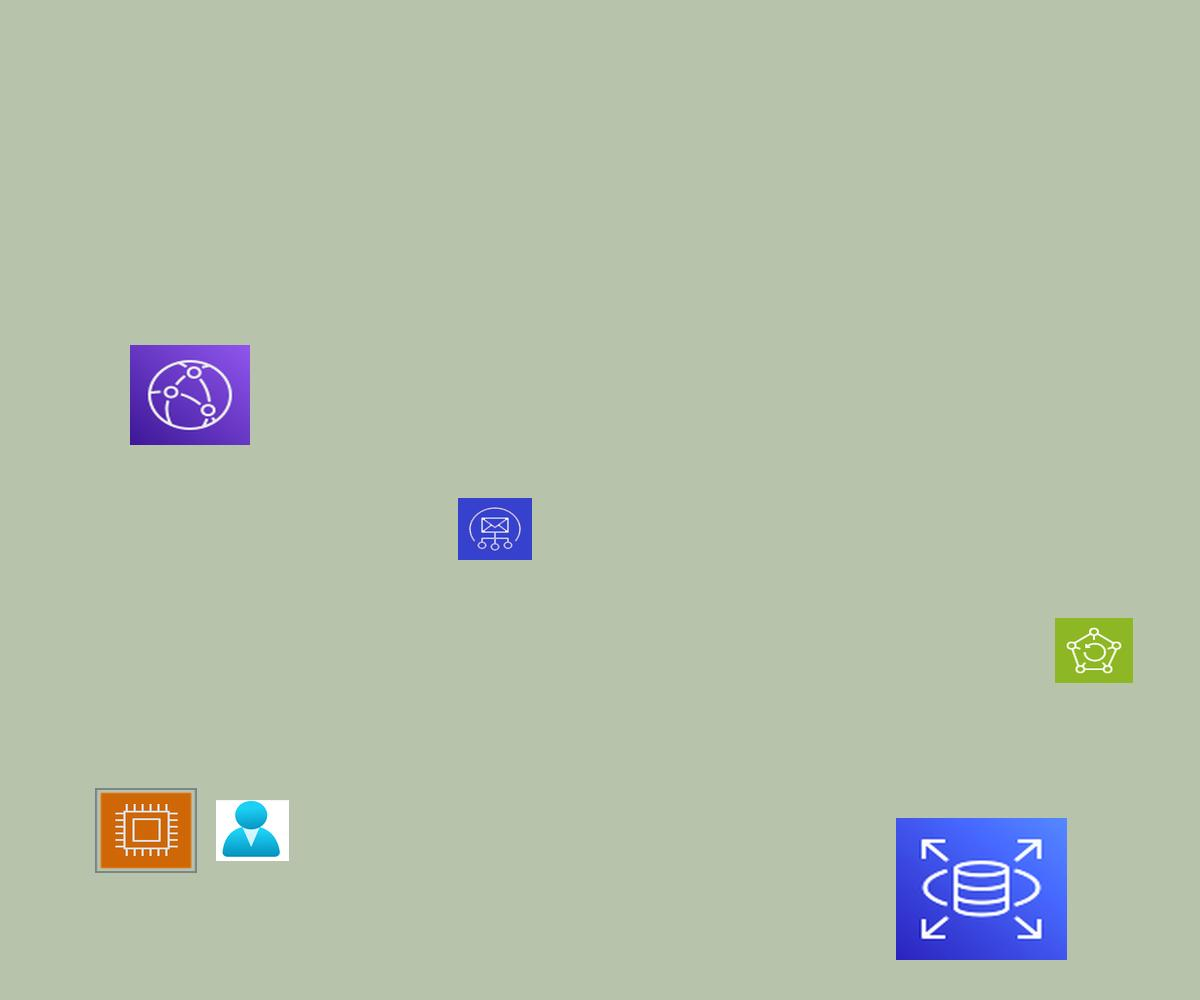AWS-Backup: (1055, 618, 1133, 683)
AWS-Category_Compute: (95, 788, 197, 873)
AWS-CloudFront: (130, 345, 250, 445)
AWS-RDS: (896, 818, 1067, 960)
AWS-Simple-Email-Service: (458, 498, 532, 560)
Azure_users: (216, 800, 289, 861)
